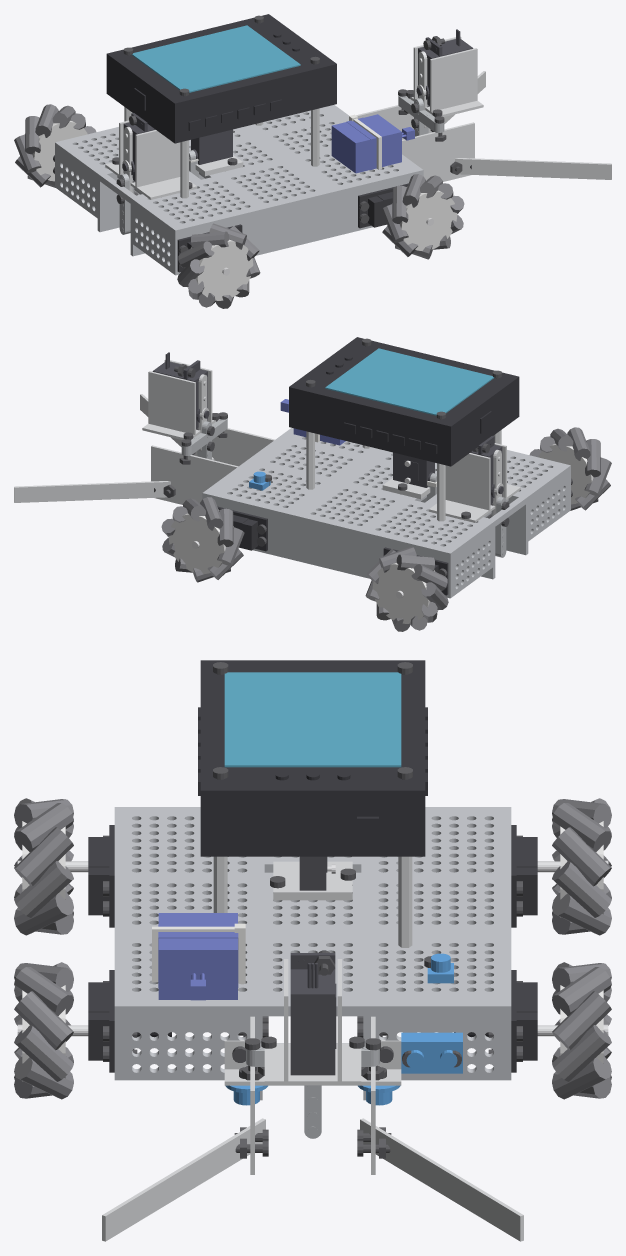
The model's file is robot_a.glb.
3 views of the same model, one above another, from view 1: azimuth 30°, elevation 25°; view 2: azimuth 150°, elevation 25°; view 3: azimuth 270°, elevation 25° (orthographic). The views are drawn at different scales.
Parts seen in each view (by area): view 1: 01.1|Printed chassis (print 1), 07.3|Wombat, 07.3|Wombat (screen), 07.4|Wombat Battery, 04.4|Plate 4 x 12, 04.8|Strap 1 x 10, 05.9|Servo Bracket.001, 03.1|Mecanum Wheel.002, 03.1|Mecanum Wheel, 05.1|Servo Bracket.001, 03.1|Mecanum Wheel.003, 05.5|Micro Servo (+21 smaller); view 2: 01.1|Printed chassis (print 1), 07.3|Wombat, 07.3|Wombat (screen), 04.1|Plate 4 x 12, 04.7|Strap 1 x 10, 05.9|Servo Bracket.002, 03.1|Mecanum Wheel.003, 03.1|Mecanum Wheel.001, 05.1|Servo Bracket.002, 04.4|Plate 4 x 12, 03.1|Mecanum Wheel.002, 05.5|Micro Servo (+20 smaller); view 3: 01.1|Printed chassis (print 1), 07.3|Wombat, 07.3|Wombat (screen), 07.4|Wombat Battery, 05.9|Servo, 04.7|Strap 1 x 10, 04.8|Strap 1 x 10, 06.4|ET (Rangefinder), 05.9|Servo Bracket, 05.5|Micro Servo Mount, 02.4|Black Gear Motor, 03.1|Mecanum Wheel roller.021 (+24 smaller).
Part boxes in pixels (x1,y1,x2,y2): 01.1|Printed chassis (print 1): (55,105,423,275); 07.3|Wombat: (106,14,336,143); 07.3|Wombat (screen): (131,25,300,92); 07.4|Wombat Battery: (331,114,414,173); 04.4|Plate 4 x 12: (402,122,474,181); 04.8|Strap 1 x 10: (455,158,611,179); 05.9|Servo Bracket.001: (430,48,477,111); 03.1|Mecanum Wheel.002: (191,239,253,300); 03.1|Mecanum Wheel: (392,190,457,250); 05.1|Servo Bracket.001: (135,130,180,187); 03.1|Mecanum Wheel.003: (24,117,87,181); 05.5|Micro Servo: (191,129,232,164); 01.1|Printed chassis (print 1): (202,428,570,598); 07.3|Wombat: (289,337,519,466); 07.3|Wombat (screen): (325,348,494,415); 04.1|Plate 4 x 12: (151,445,238,504); 04.7|Strap 1 x 10: (14,481,170,502); 05.9|Servo Bracket.002: (148,371,195,436); 03.1|Mecanum Wheel.003: (372,562,434,623); 03.1|Mecanum Wheel.001: (168,513,233,573); 05.1|Servo Bracket.002: (445,453,490,512); 04.4|Plate 4 x 12: (193,428,274,466); 03.1|Mecanum Wheel.002: (538,440,601,504); 05.5|Micro Servo: (393,452,434,487); 01.1|Printed chassis (print 1): (114,807,511,1100); 07.3|Wombat: (198,660,427,856); 07.3|Wombat (screen): (224,672,401,767); 07.4|Wombat Battery: (158,913,238,1000); 05.9|Servo: (290,953,336,1075); 04.7|Strap 1 x 10: (360,1118,523,1241); 04.8|Strap 1 x 10: (102,1118,265,1241); 06.4|ET (Rangefinder): (401,1032,462,1073); 05.9|Servo Bracket: (264,1044,361,1085); 05.5|Micro Servo Mount: (273,861,352,900); 02.4|Black Gear Motor: (88,982,171,1060); 03.1|Mecanum Wheel roller.021: (14,827,73,886).
Size of the model in its own units: 386 by 140 by 271.
